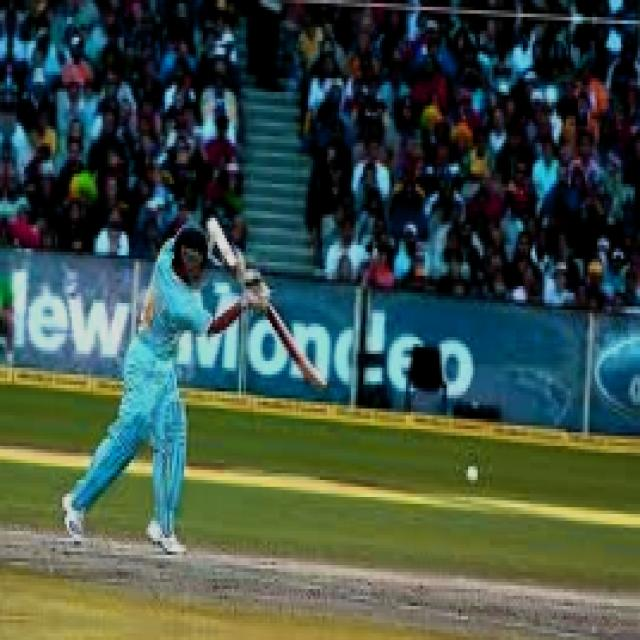bat: (262, 278, 335, 400)
